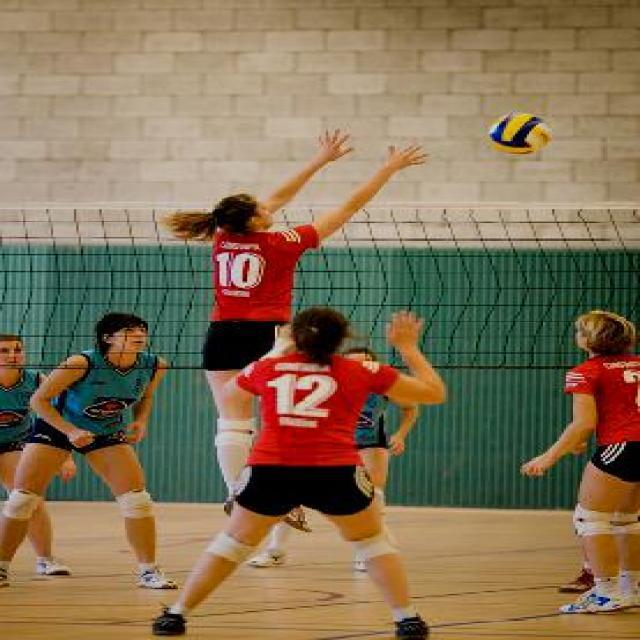volleyball: (484, 111, 554, 156)
